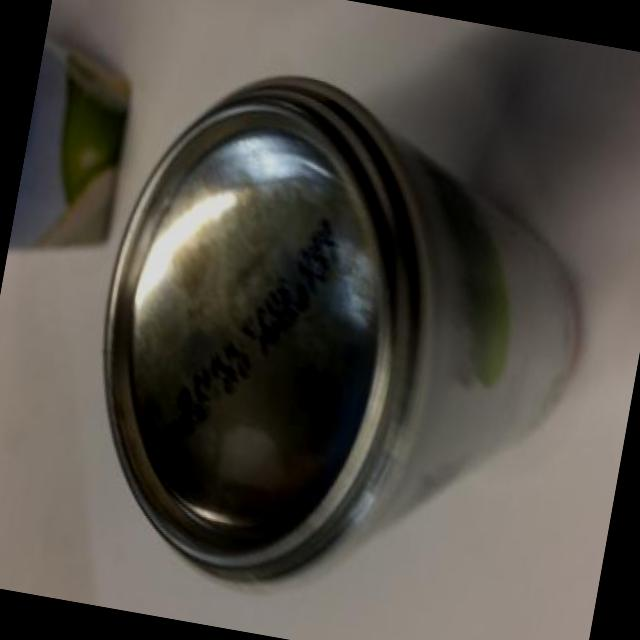kim_loai: (106, 77, 580, 585)
